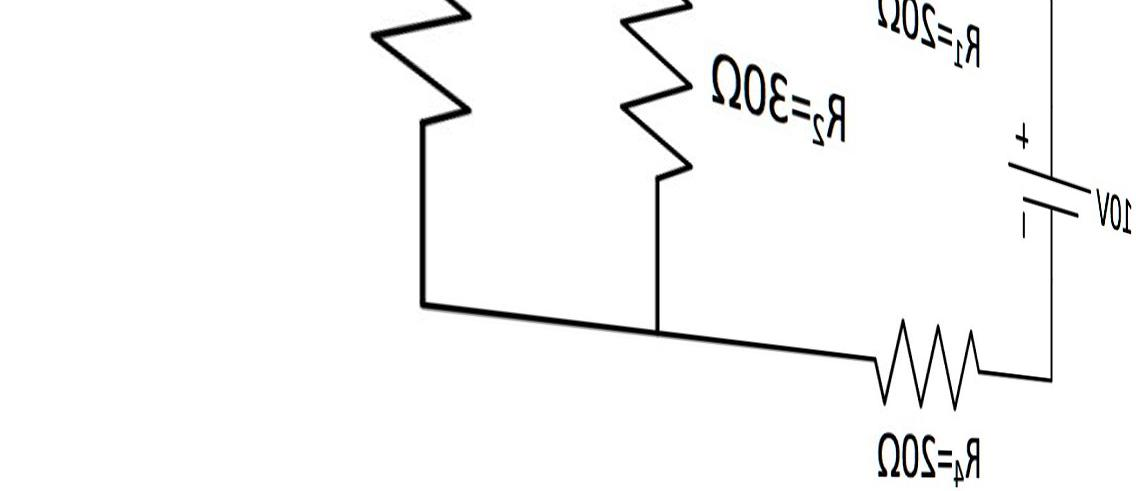resistor: (846, 278, 1004, 418), (604, 3, 711, 186), (377, 3, 498, 147)
